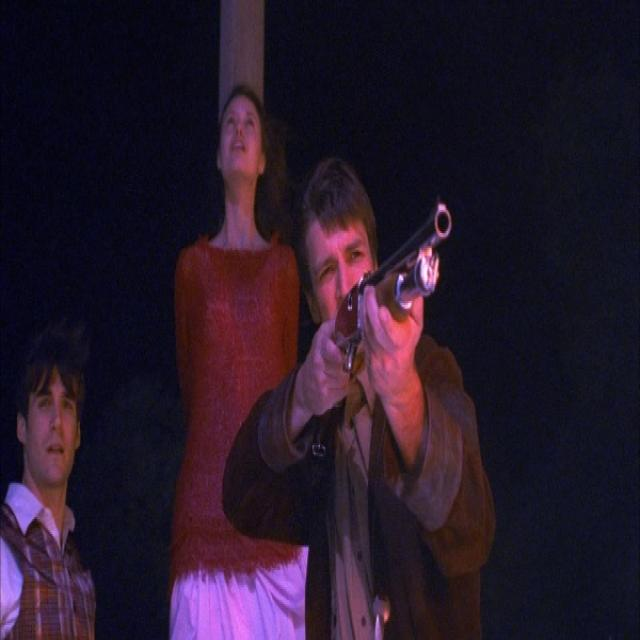rifle: (323, 185, 464, 367)
